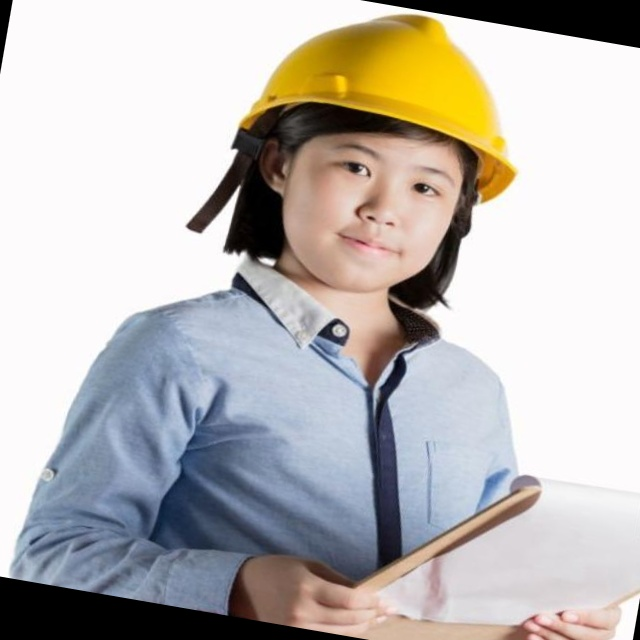Con_Casco: (209, 0, 541, 316)
Sin_Chaleco: (68, 261, 534, 640)
